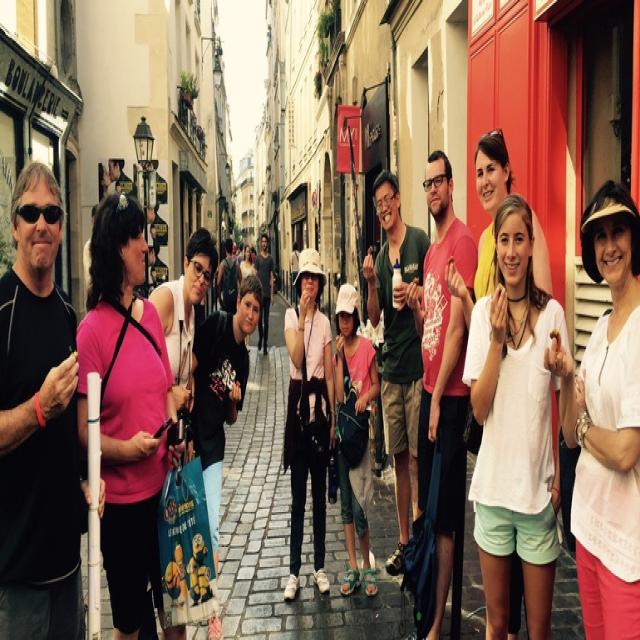body: (443, 125, 555, 638), (457, 187, 579, 638), (0, 157, 108, 638), (75, 187, 188, 640), (540, 176, 639, 638), (403, 146, 480, 640), (182, 269, 266, 640), (361, 166, 431, 579), (276, 244, 336, 605), (146, 226, 220, 470), (330, 282, 380, 599), (96, 155, 169, 282), (253, 232, 276, 358), (81, 200, 102, 314), (216, 237, 244, 316), (239, 244, 257, 352), (289, 240, 302, 310), (226, 242, 258, 265)
